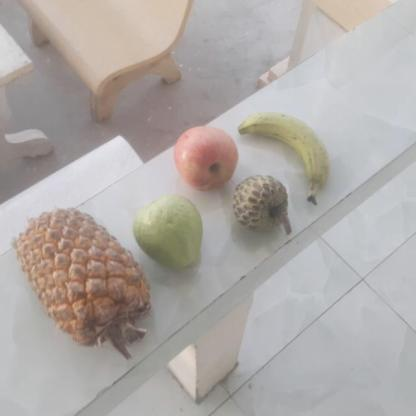annona: (230, 174, 289, 234)
apple: (170, 126, 241, 192)
banana: (231, 110, 332, 202)
guava: (130, 196, 204, 272)
pineapple: (11, 208, 151, 354)
